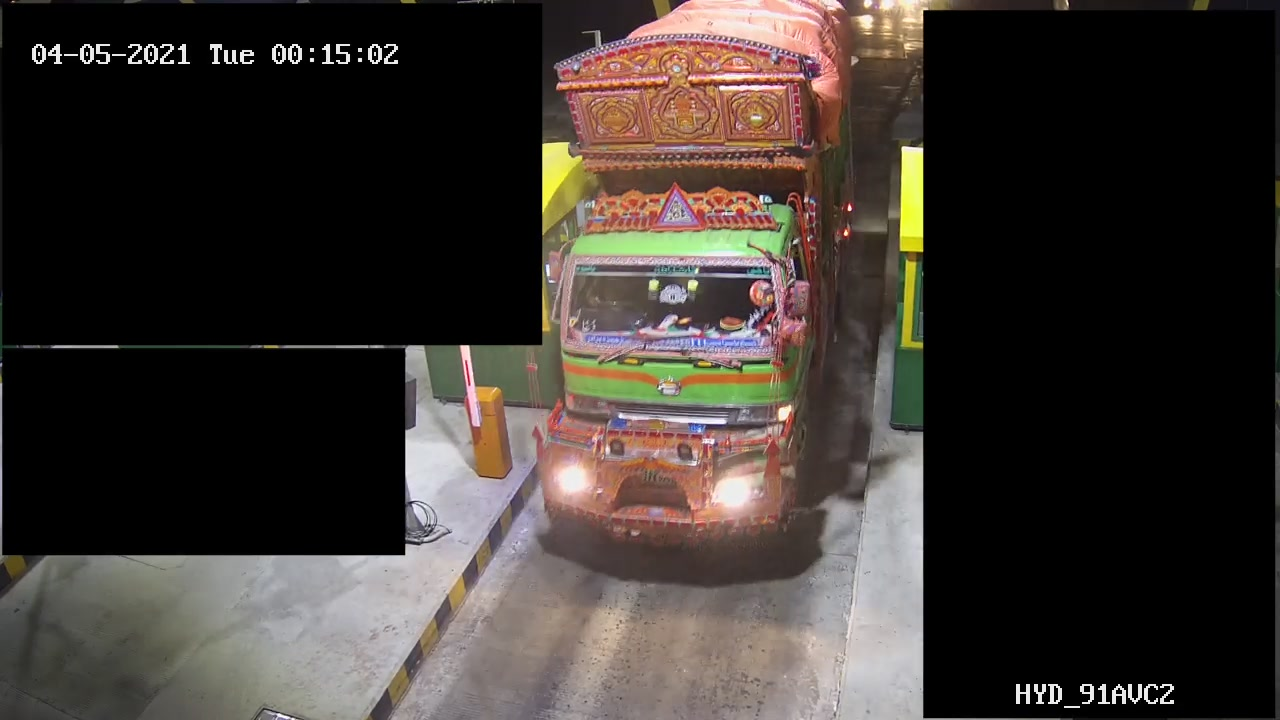F5: (512, 1, 861, 566)
